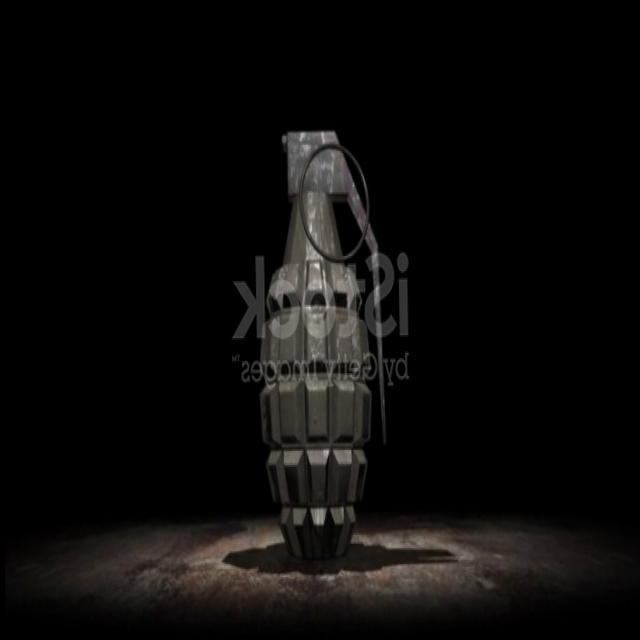grenade: (252, 112, 385, 572)
